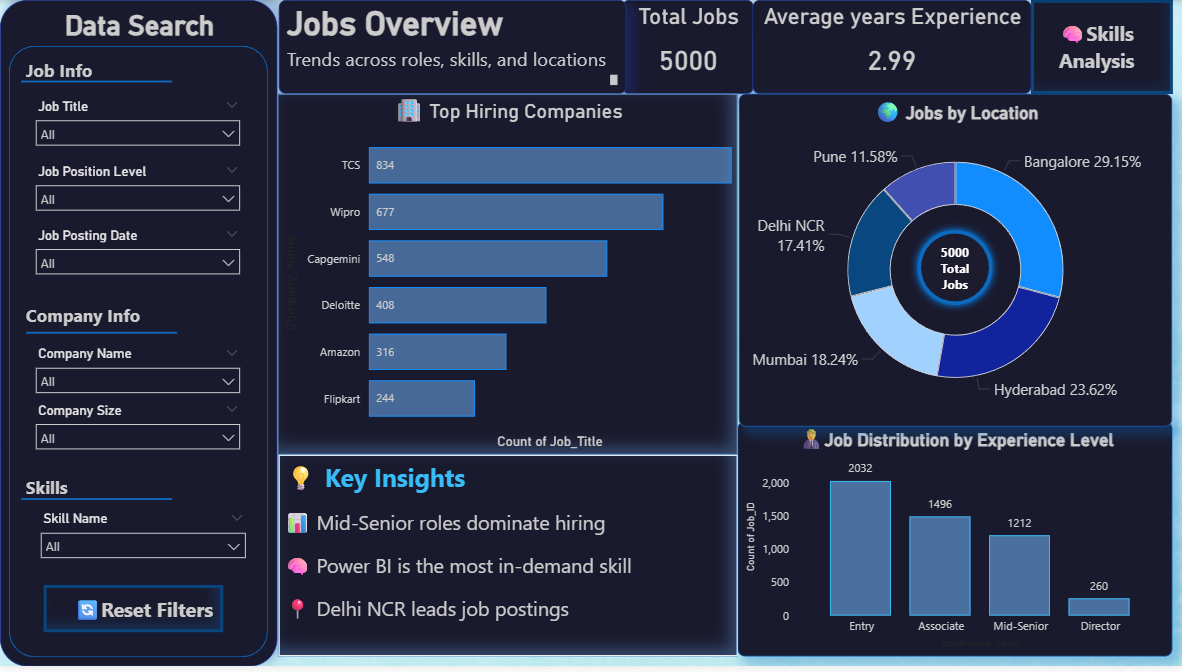

The page's visual inventory and layout, read from the dashboard file:
{"tool":"powerbi","page":{"name":"Page 1","canvas":[1280,720],"ordinal":0},"visuals":[{"type":"shape","title":"Data Search","box":[0,0,300.1,720.6],"z":0},{"type":"card","title":"Total Jobs","fields":{"Values":["Sum(kpi_posting_count.Posting_Count)"]},"box":[672.9,0,141.4,101.4],"z":6000},{"type":"card","title":"Average years Experience","fields":{"Values":["Sum(kpi_avg_experience.Avg_Experience)"]},"box":[814.3,0,301.4,101.4],"z":7000},{"type":"textbox","title":"Jobs Overview","box":[301.4,0,375.7,101.4],"z":8000},{"type":"slicer","fields":{"Values":["job_market fact_jobs.Job_Title"]},"box":[28.8,101.5,241.5,70],"z":9000},{"type":"slicer","fields":{"Values":["experience_distribution.Experience_Level"]},"box":[28.8,171.5,241.5,68.6],"z":10000},{"type":"slicer","fields":{"Values":["job_market dim_company.Company_Name"]},"box":[28.8,369.1,241.5,60.4],"z":11000},{"type":"slicer","fields":{"Values":["job_market dim_company.Company_Size"]},"box":[28.8,429.5,241.5,70],"z":12000},{"type":"slicer","fields":{"Values":["job_market dim_skills.Skill_Name"]},"box":[34,548.1,241.7,68.1],"z":13000},{"type":"slicer","fields":{"Values":["job_market fact_jobs.Year Hierarchy.Year","job_market fact_jobs.Year Hierarchy.Month"]},"box":[28.8,240.1,241.5,70],"z":14000},{"type":"columnChart","title":"🧑💼Job Distribution by Experience Level","fields":{"Category":["job_market_realistic_5000.Experience_Level"],"Y":["CountNonNull(job_market_realistic_5000.Job_ID)"]},"box":[797.6,455.6,470.5,254.2],"z":15000},{"type":"donutChart","title":"🌍 Jobs by Location","fields":{"Category":["job_market_realistic_5000.City"],"Y":["CountNonNull(job_market_realistic_5000.Job_ID)"]},"box":[799,101.4,469.1,359.6],"z":16000},{"type":"textbox","box":[23.3,57.6,241.5,35.7],"z":17000},{"type":"shape","box":[23.3,68.6,163.3,38.4],"z":18000},{"type":"textbox","box":[23.3,322.5,251.1,37],"z":19000},{"type":"shape","box":[28.8,340.3,163.3,38.4],"z":20000},{"type":"textbox","box":[23.3,509.1,247,39.8],"z":21000},{"type":"shape","box":[23.3,520.1,163.3,38.4],"z":22000},{"type":"actionButton","box":[47.7,633.2,194,51.1],"z":23000},{"type":"textbox","box":[301.5,492.1,496.2,217.7],"z":24000},{"type":"clusteredBarChart","title":"🏢 Top Hiring Companies","fields":{"Category":["job_market_realistic_5000.Company_Name"],"Y":["CountNonNull(job_market_realistic_5000.Job_Title)"]},"box":[300.1,101.4,497.5,390.7],"z":25000},{"type":"actionButton","box":[1115.7,0,152.9,101.4],"z":26000},{"type":"shape","box":[984.2,240.6,97.3,97.3],"z":27000}]}

Visuals, with their boxes in screenshot pixels (x1, y1, x2, y2), scaled from the page's 1280x720 canvas onto the 1182x672 screenshot:
"Data Search" shape: bbox=[0, 0, 277, 671]
"Total Jobs" card: bbox=[621, 0, 752, 95]
"Average years Experience" card: bbox=[752, 0, 1030, 95]
"Jobs Overview" textbox: bbox=[278, 0, 625, 95]
slicer - job_market fact_jobs.Job_Title: bbox=[27, 95, 250, 160]
slicer - experience_distribution.Experience_Level: bbox=[27, 160, 250, 224]
slicer - job_market dim_company.Company_Name: bbox=[27, 344, 250, 401]
slicer - job_market dim_company.Company_Size: bbox=[27, 401, 250, 466]
slicer - job_market dim_skills.Skill_Name: bbox=[31, 512, 255, 575]
slicer - job_market fact_jobs.Year Hierarchy.Year x job_market fact_jobs.Year Hierarchy.Month: bbox=[27, 224, 250, 289]
"🧑💼Job Distribution by Experience Level" columnChart: bbox=[737, 425, 1171, 662]
"🌍 Jobs by Location" donutChart: bbox=[738, 95, 1171, 430]
textbox: bbox=[22, 54, 245, 87]
shape: bbox=[22, 64, 172, 100]
textbox: bbox=[22, 301, 253, 336]
shape: bbox=[27, 318, 177, 353]
textbox: bbox=[22, 475, 250, 512]
shape: bbox=[22, 485, 172, 521]
actionButton: bbox=[44, 591, 223, 639]
textbox: bbox=[278, 459, 737, 662]
"🏢 Top Hiring Companies" clusteredBarChart: bbox=[277, 95, 737, 459]
actionButton: bbox=[1030, 0, 1171, 95]
shape: bbox=[909, 225, 999, 315]
